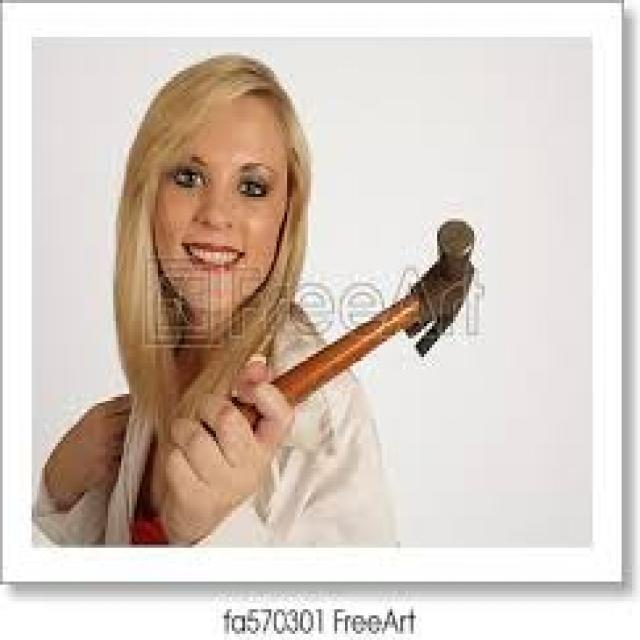hammer: (128, 202, 510, 506)
